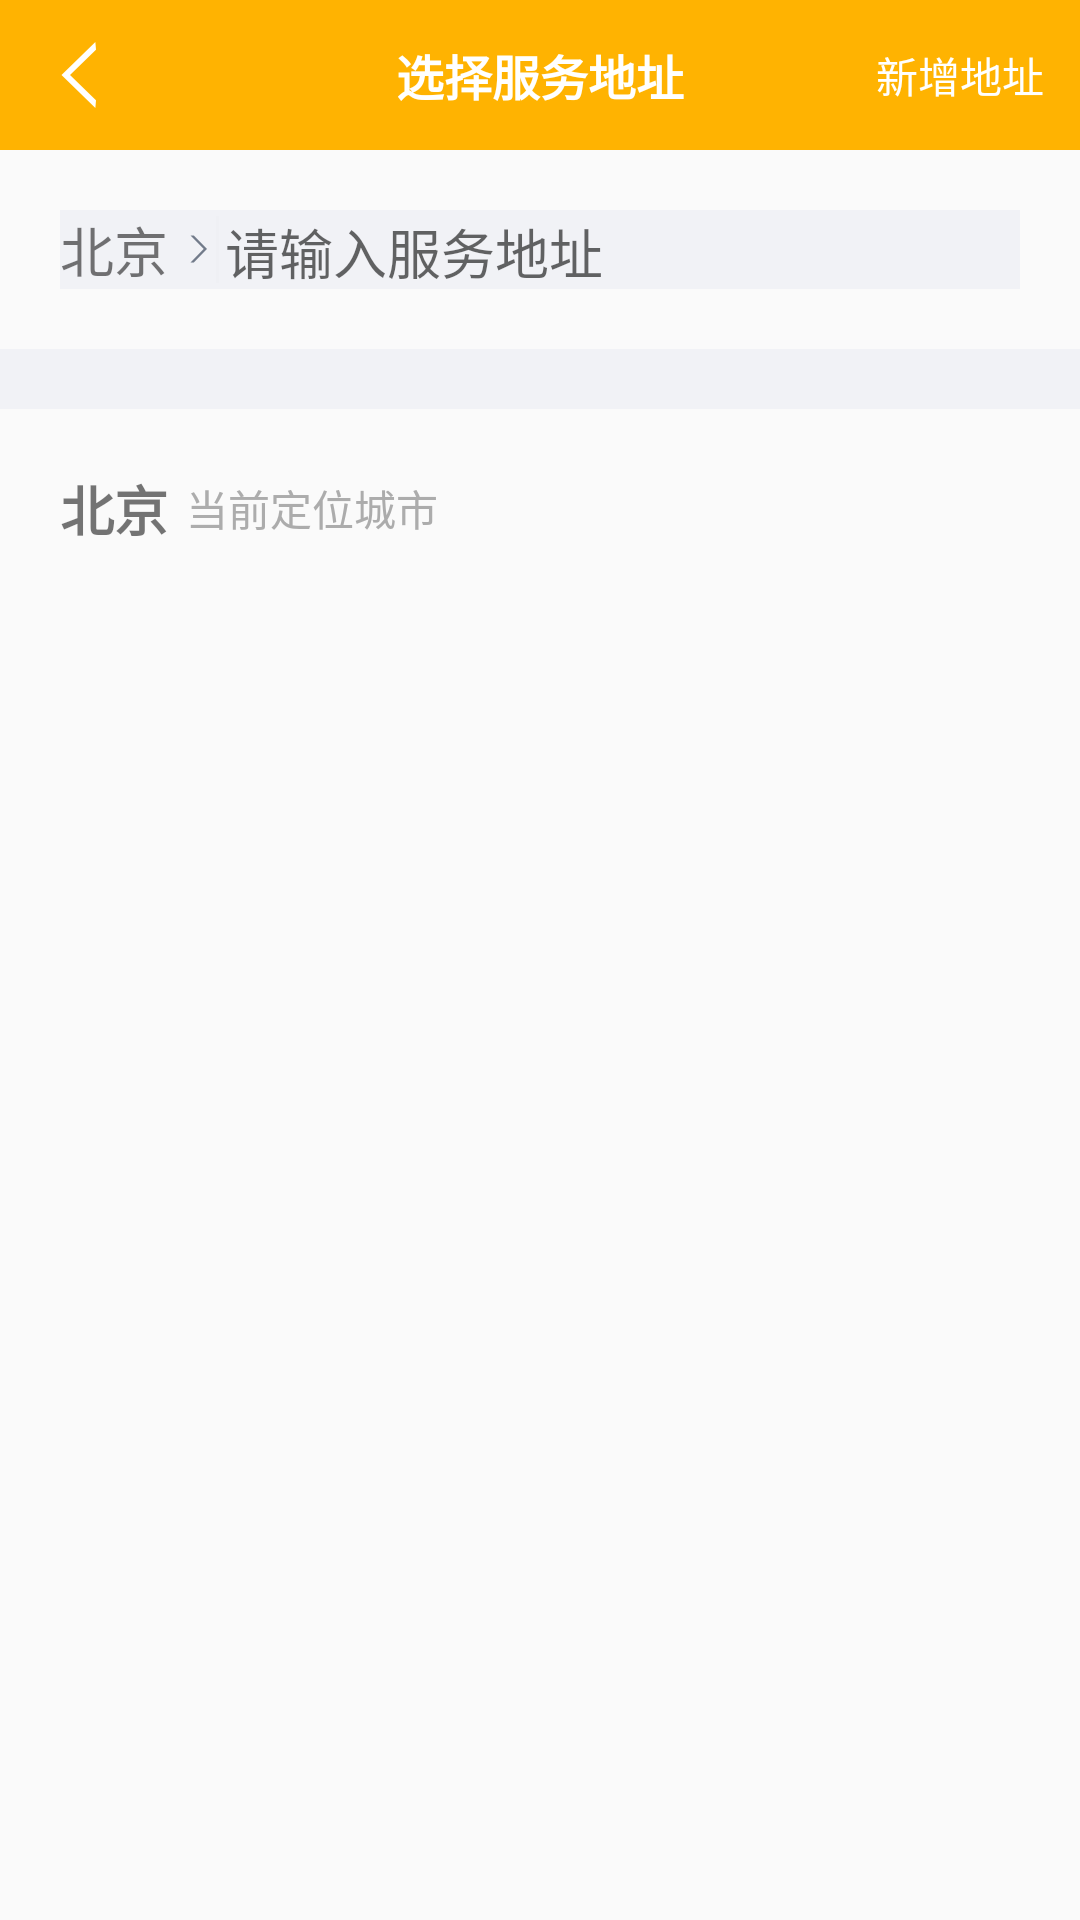

Where icons sit on this 1080px×1920px app screen, as bbox=(x1, y1, x2, y2):
back: bbox=(61, 42, 96, 108)
